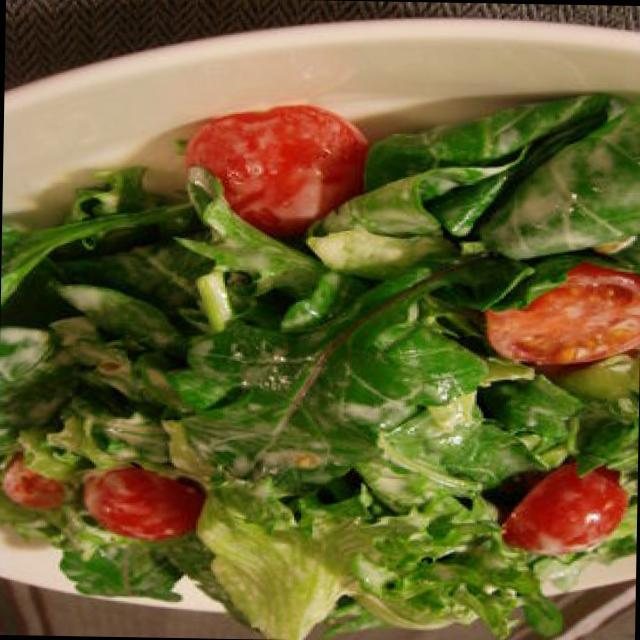Green Salad: (0, 140, 640, 616)
